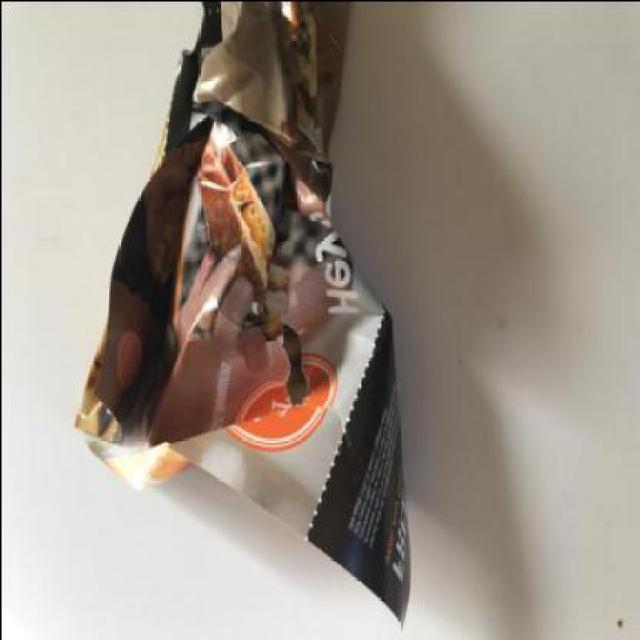PAPER: (70, 1, 408, 632)
